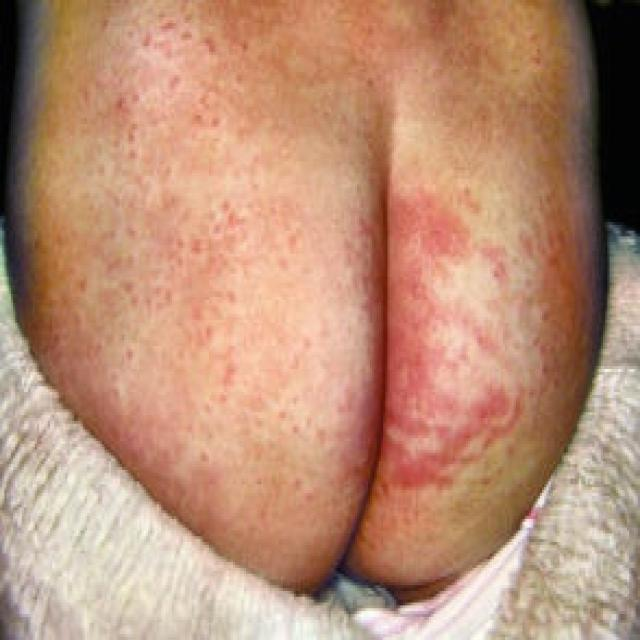Warts-Molluscum-and-other-Viral-Infections: (219, 105, 582, 569)
